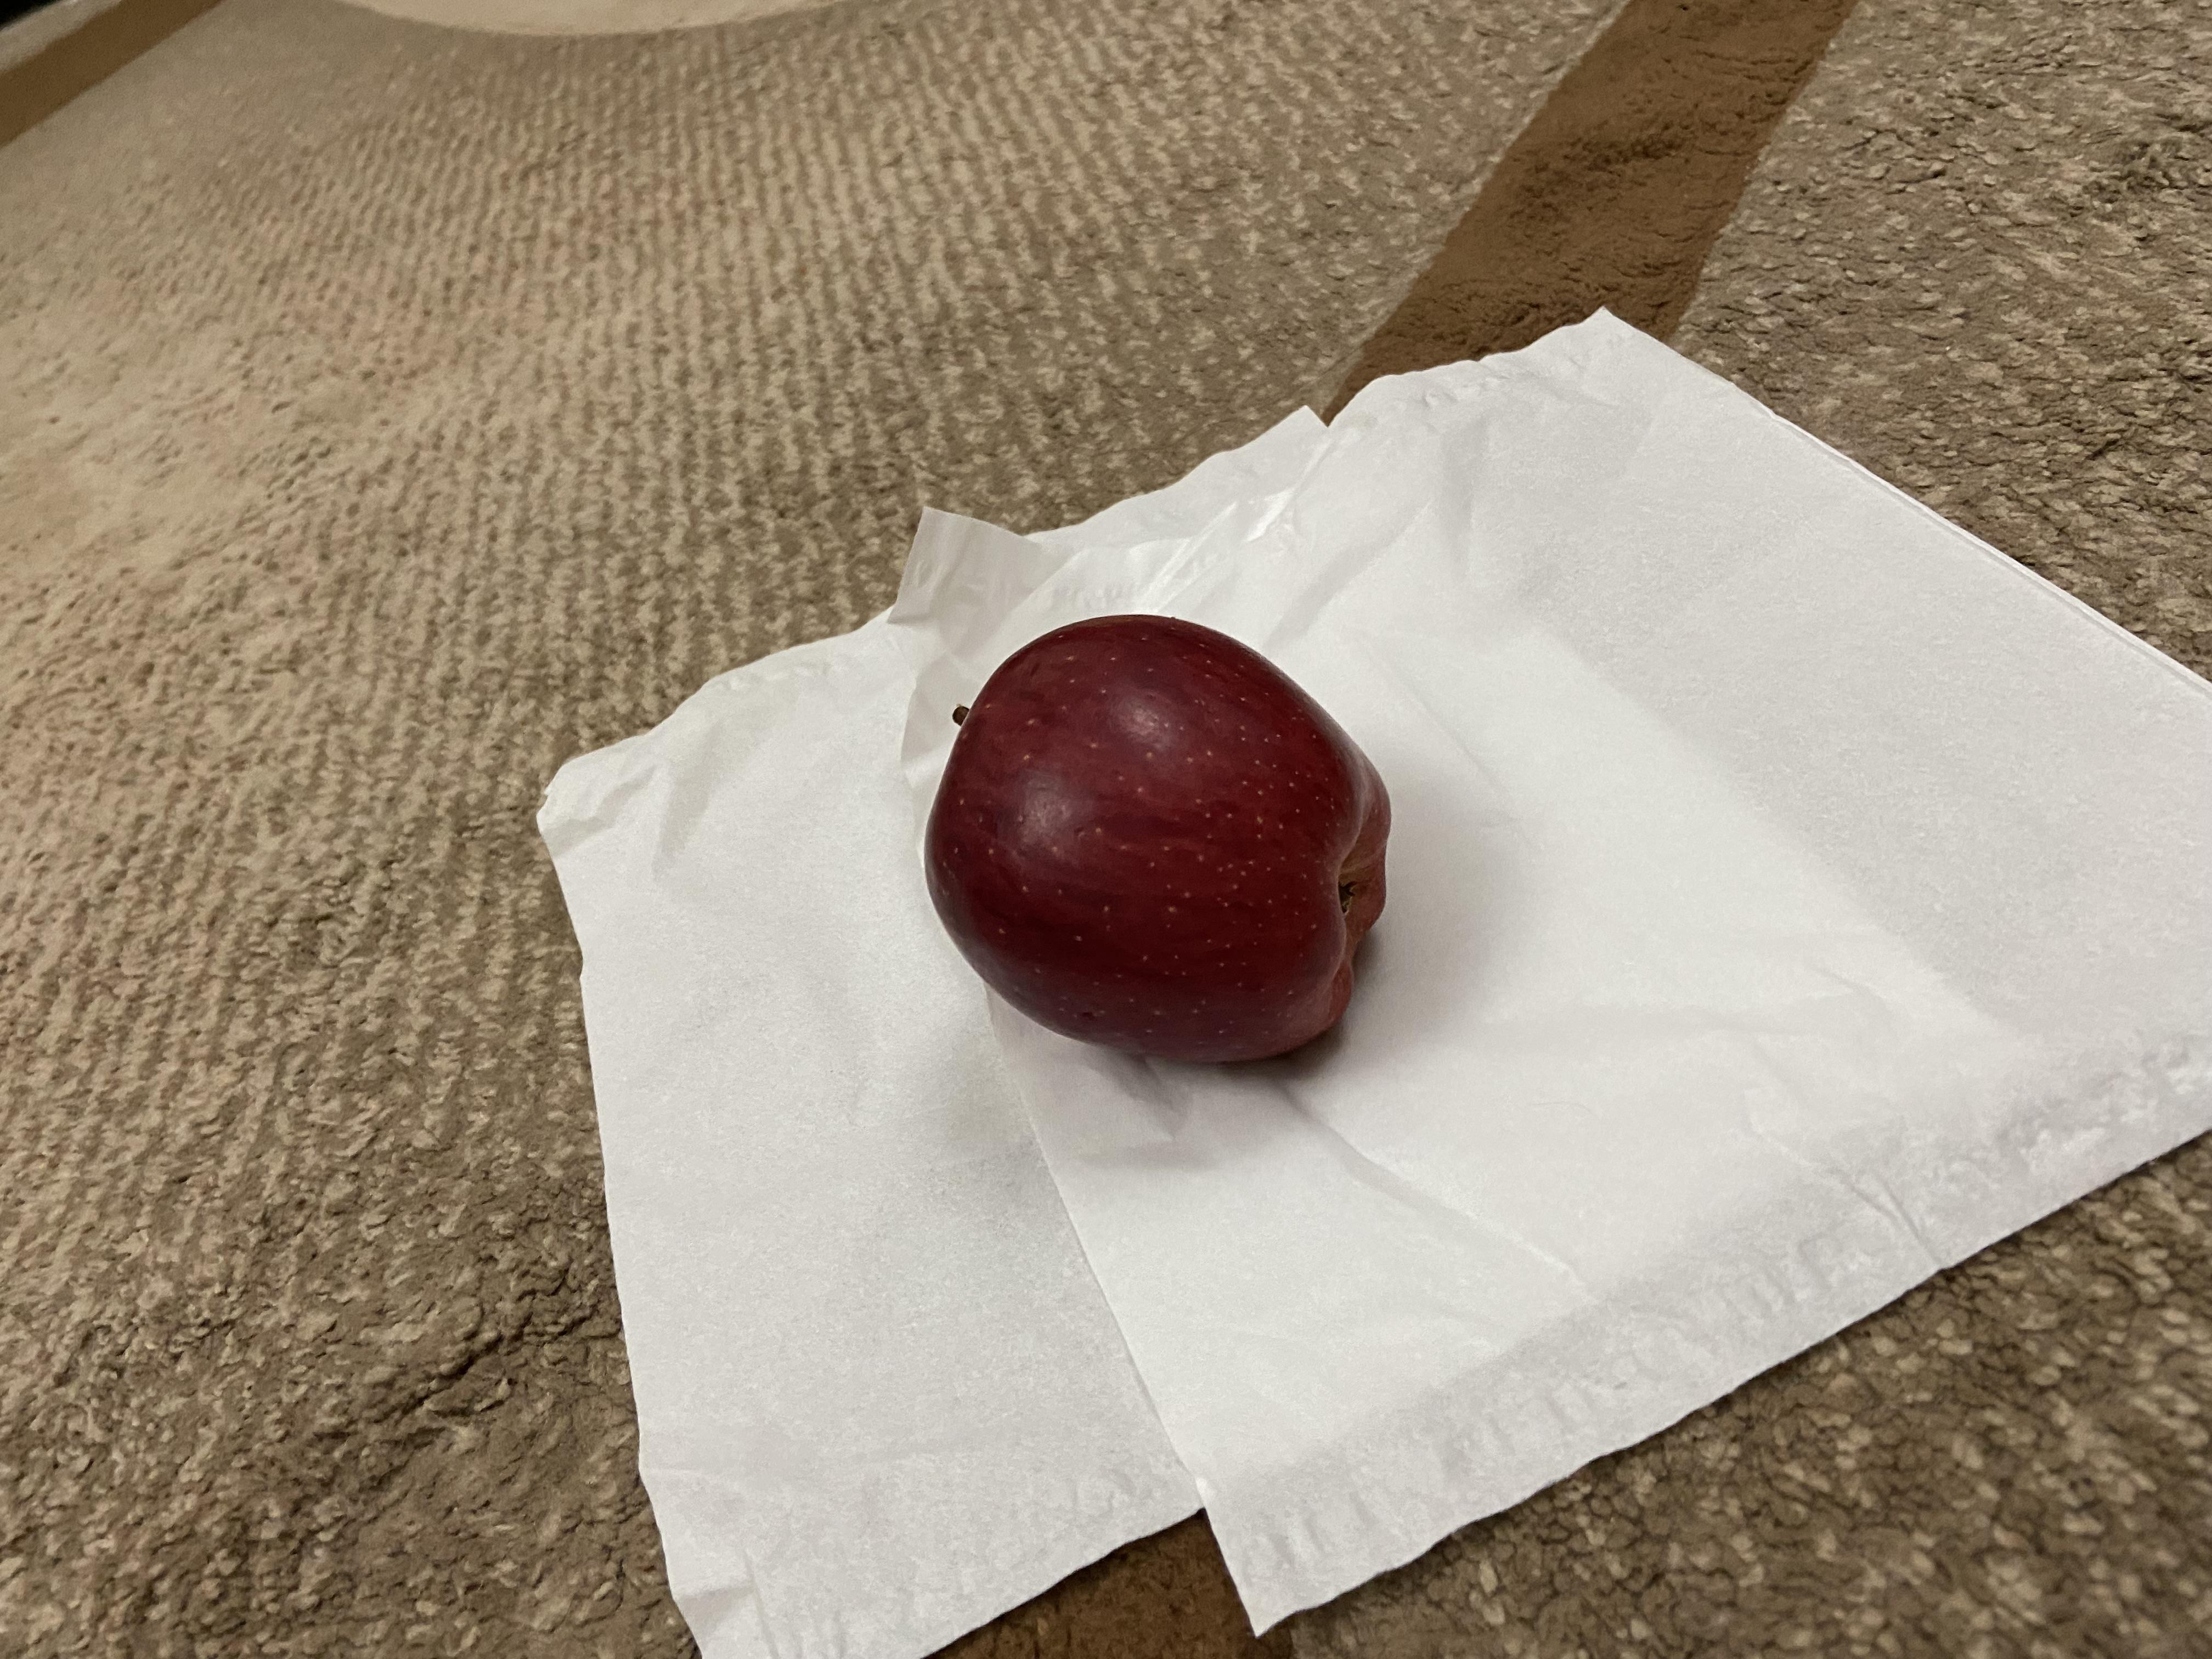Apple: (902, 598, 1406, 1080)
